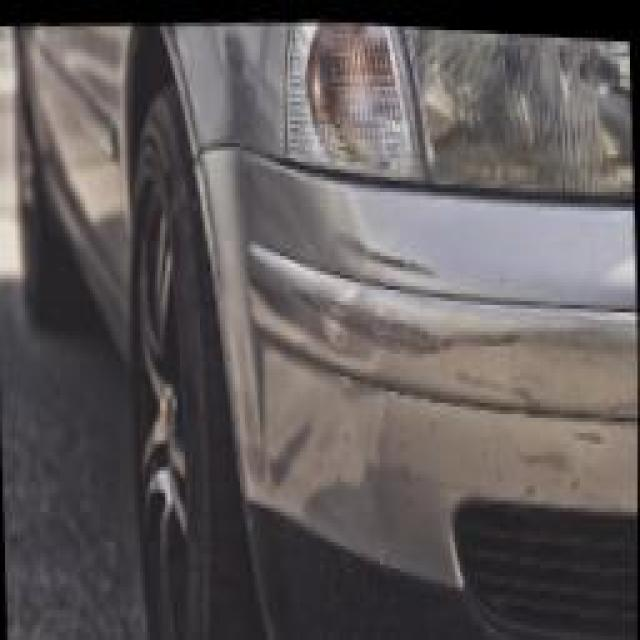Fender: (228, 173, 639, 598)
